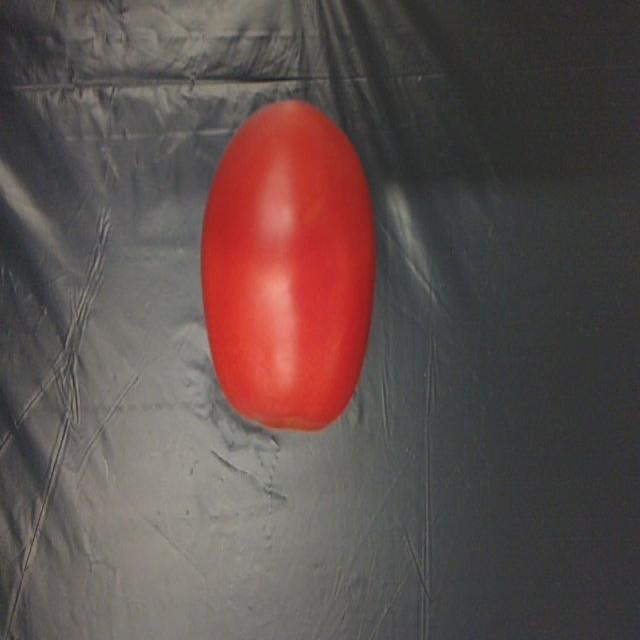kirmizi: (207, 91, 382, 436)
